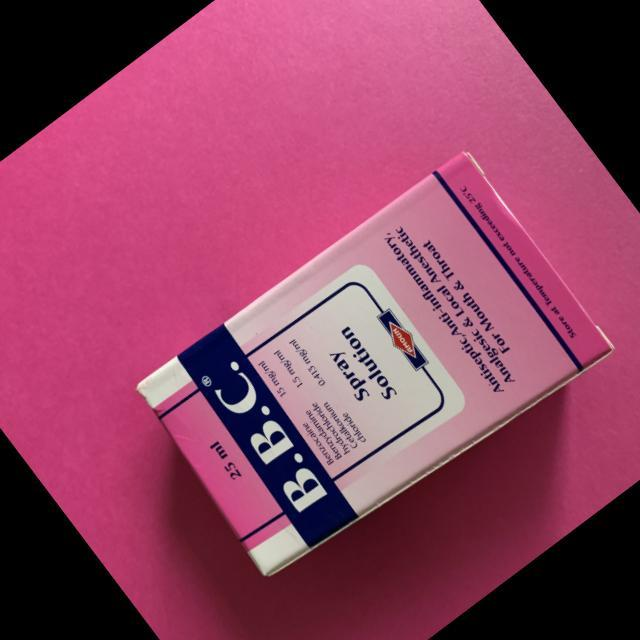Medicine Name: (203, 362, 344, 523)
